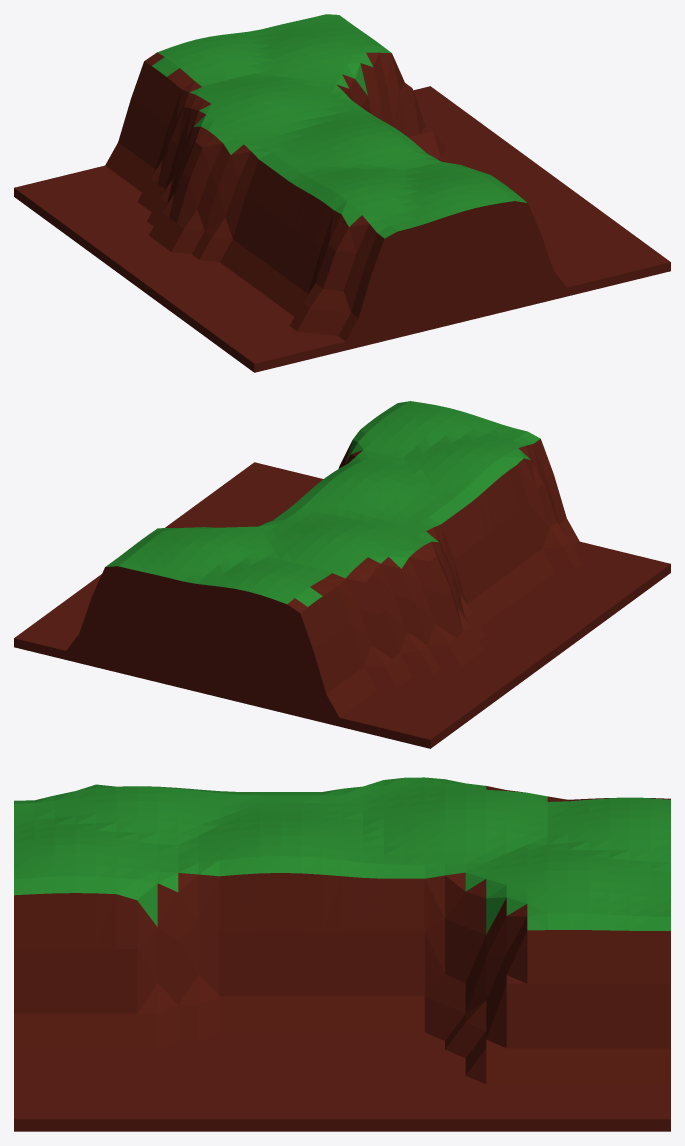
Rendered from Terrain - puzzle tutorial3.fbx.
3 views of the same model, one above another, from view 1: azimuth 30°, elevation 25°; view 2: azimuth 150°, elevation 25°; view 3: azimuth 270°, elevation 25° (orthographic). The views are drawn at different scales.
Parts seen in each view (by area): view 1: tutorial3 triangulated; view 2: tutorial3 triangulated; view 3: tutorial3 triangulated.
Part boxes in pixels (box(x1,y1,x2,y2)): tutorial3 triangulated: box(14, 14, 670, 372); tutorial3 triangulated: box(14, 401, 670, 748); tutorial3 triangulated: box(14, 777, 670, 1131).
Size of the model in its own units: 5000 by 1319 by 5000.
